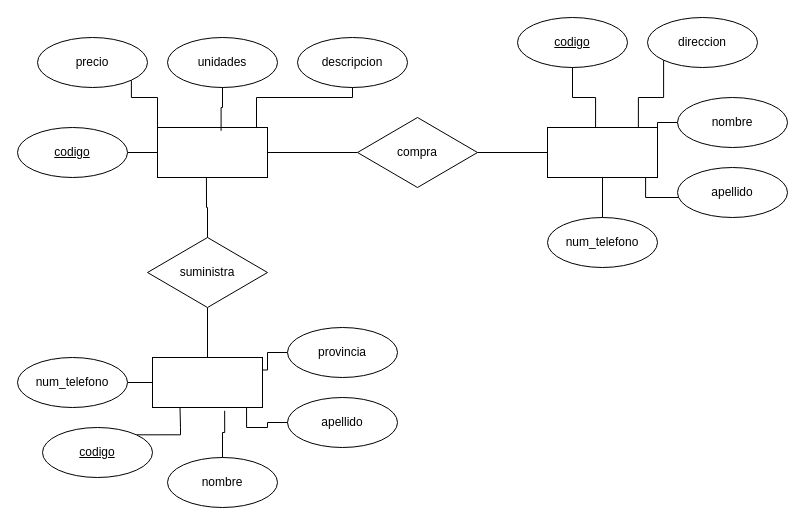
Image size: 805x525. Some labels were removed from this diagram. Each missing label, with the box of its shape:
Cliente: (546, 126, 658, 178)
Producto: (156, 126, 268, 178)
Proveedor: (152, 356, 262, 408)
